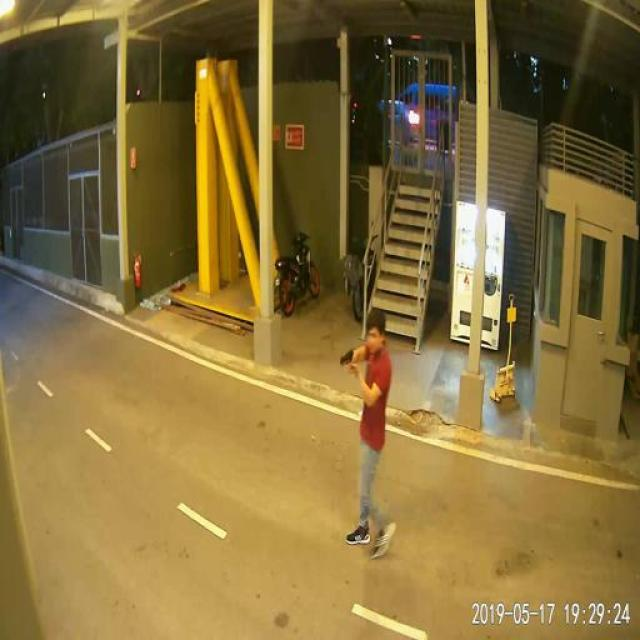Gun: (334, 343, 359, 375)
